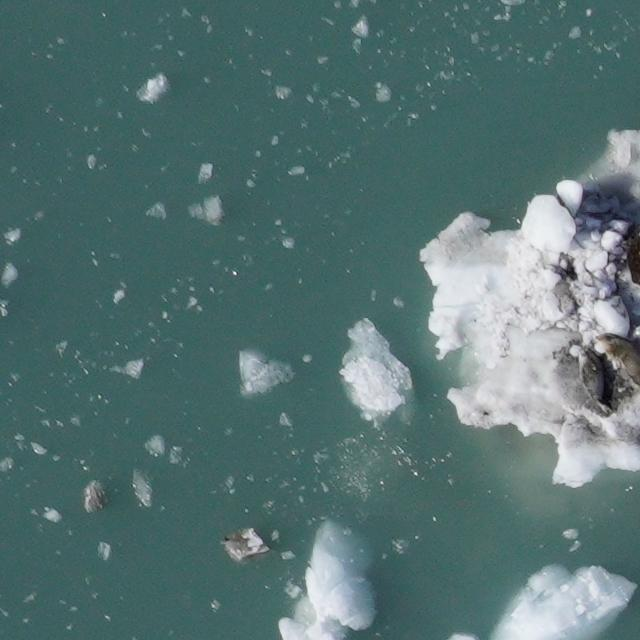seal: (573, 339, 623, 417), (590, 329, 640, 392)
